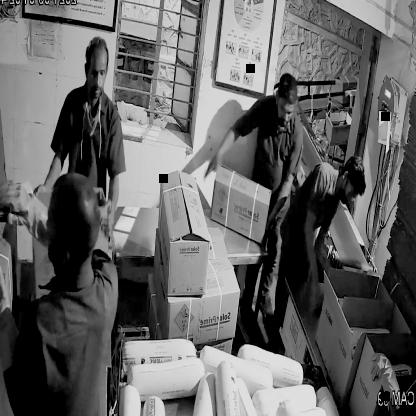no_goggles: (82, 62, 114, 87)
